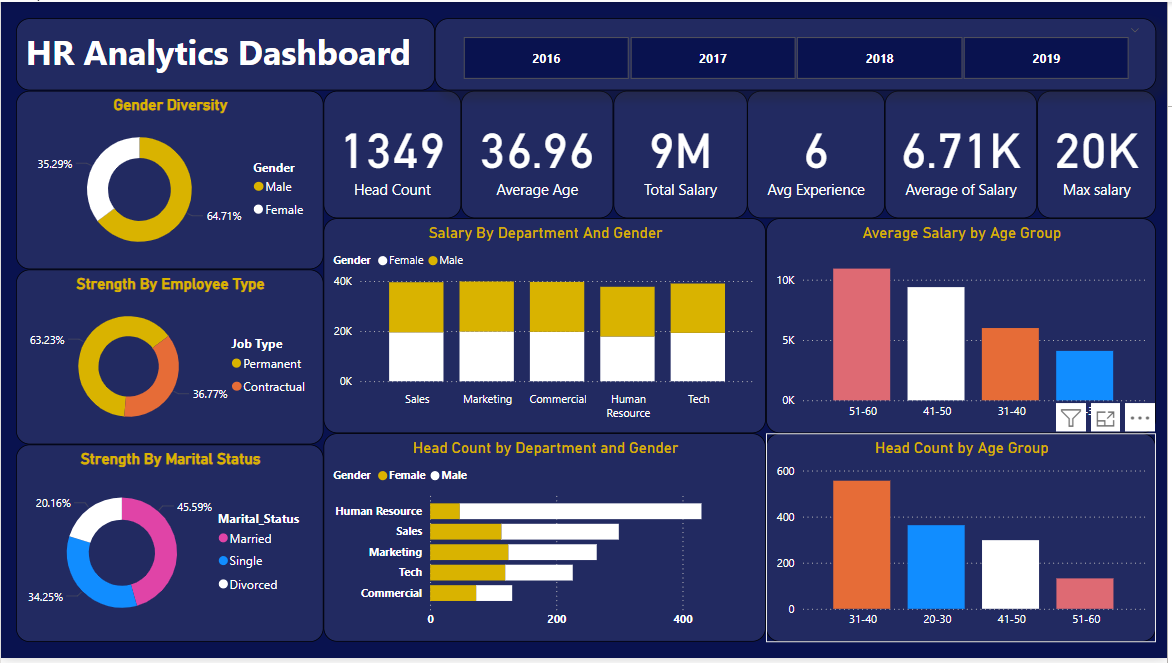

The page's visual inventory and layout, read from the dashboard file:
{"tool":"powerbi","page":{"name":"HR Analytics Dashboard","canvas":[1280,720],"ordinal":0},"visuals":[{"type":"card","fields":{"Values":["HRDATASETFULL.Head Count"]},"box":[354,97.4,150.9,140],"z":0},{"type":"card","fields":{"Values":["Sum(HRDATASETFULL.Salary)"]},"box":[672.4,97.4,146.8,140],"z":1000},{"type":"card","fields":{"Values":["Avg(HRDATASETFULL.Age)"]},"box":[505,97.4,167.4,140],"z":2000},{"type":"card","fields":{"Values":["Min(HRDATASETFULL.Experience)"]},"box":[819.2,97.4,150.9,140],"z":3000},{"type":"card","fields":{"Values":["HRDATASETFULL.Max salary"]},"box":[1137.6,97.4,130.4,140],"z":4000},{"type":"card","fields":{"Values":["Avg(HRDATASETFULL.Salary)"]},"box":[970.2,97.4,167.4,140],"z":5000},{"type":"textbox","box":[16.5,17.8,459.7,79.6],"z":6000},{"type":"donutChart","title":"Gender Diversity","fields":{"Category":["HRDATASETFULL.Gender"],"Y":["HRDATASETFULL.Head Count"]},"box":[16.5,97.4,337.6,196.2],"z":7000},{"type":"donutChart","title":"Strength By Employee Type","fields":{"Y":["HRDATASETFULL.Head Count"],"Category":["HRDATASETFULL.Job Type"]},"box":[16.5,293.7,337.6,192.1],"z":8000},{"type":"donutChart","title":"Strength By Marital Status","fields":{"Y":["HRDATASETFULL.Head Count"],"Category":["HRDATASETFULL.Marital_Status"]},"box":[16.5,485.8,337.6,216.8],"z":9000},{"type":"columnChart","title":"Salary By Department And Gender ","fields":{"Category":["HRDATASETFULL.Department_Name"],"Y":["HRDATASETFULL.Max salary"],"Series":["HRDATASETFULL.Gender"]},"box":[354,237.4,485.8,236],"z":10000},{"type":"barChart","title":"Head Count by Department and Gender","fields":{"Category":["HRDATASETFULL.Department_Name"],"Y":["HRDATASETFULL.Head Count"],"Series":["HRDATASETFULL.Gender"]},"box":[354,473.4,485.8,229.2],"z":11000},{"type":"columnChart","fields":{"Category":["HRDATASETFULL.Age Group"],"Y":["HRDATASETFULL.Average Salary"]},"box":[839.8,237.4,428.1,236],"z":12000},{"type":"columnChart","fields":{"Category":["HRDATASETFULL.Age Group"],"Y":["HRDATASETFULL.Head Count"]},"box":[839.8,473.4,428.1,229.2],"z":13000},{"type":"slicer","fields":{"Values":["HRDATASETFULL.Hire_Date.Variation.Date Hierarchy.Year"]},"box":[476.2,17.8,791.8,79.6],"z":14000}]}

Visuals, with their boxes in screenshot pixels (x1, y1, x2, y2), scaled from the page's 1280x720 canvas onto the 1172x663 screenshot:
card - HRDATASETFULL.Head Count: l=324, t=90, r=462, b=219
card - Sum(HRDATASETFULL.Salary): l=616, t=90, r=750, b=219
card - Avg(HRDATASETFULL.Age): l=462, t=90, r=616, b=219
card - Min(HRDATASETFULL.Experience): l=750, t=90, r=888, b=219
card - HRDATASETFULL.Max salary: l=1042, t=90, r=1161, b=219
card - Avg(HRDATASETFULL.Salary): l=888, t=90, r=1042, b=219
textbox: l=15, t=16, r=436, b=90
"Gender Diversity" donutChart: l=15, t=90, r=324, b=270
"Strength By Employee Type" donutChart: l=15, t=270, r=324, b=447
"Strength By Marital Status" donutChart: l=15, t=447, r=324, b=647
"Salary By Department And Gender " columnChart: l=324, t=219, r=769, b=436
"Head Count by Department and Gender" barChart: l=324, t=436, r=769, b=647
columnChart - HRDATASETFULL.Age Group x HRDATASETFULL.Average Salary: l=769, t=219, r=1161, b=436
columnChart - HRDATASETFULL.Age Group x HRDATASETFULL.Head Count: l=769, t=436, r=1161, b=647
slicer - HRDATASETFULL.Hire_Date.Variation.Date Hierarchy.Year: l=436, t=16, r=1161, b=90
